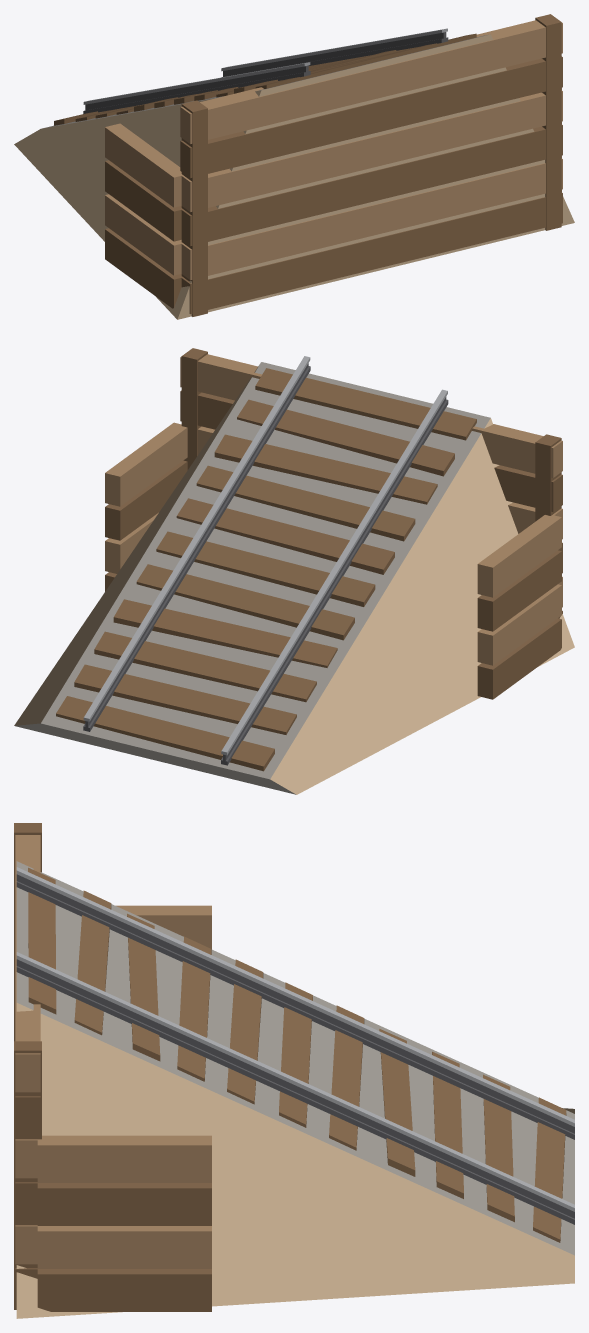
Rendered from SM_Rail_Bridge_End.glb.
3 views of the same model, one above another, from view 1: azimuth 30°, elevation 25°; view 2: azimuth 150°, elevation 25°; view 3: azimuth 270°, elevation 25° (orthographic). The views are drawn at different scales.
Visible parts, largest first — view 1: SM_Rail_Bridge_End; view 2: SM_Rail_Bridge_End; view 3: SM_Rail_Bridge_End.
Boxes of the visible parts, x1,y1,x2,y2 form: SM_Rail_Bridge_End: (14, 14, 574, 319); SM_Rail_Bridge_End: (14, 348, 574, 794); SM_Rail_Bridge_End: (14, 823, 574, 1318).
Bounding box in the file's own units: 4.16 × 2.25 × 4.02.
